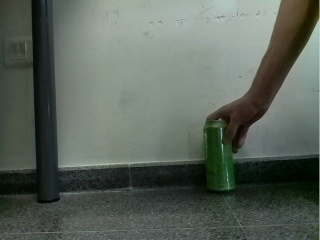botella plastico: (203, 119, 236, 191)
